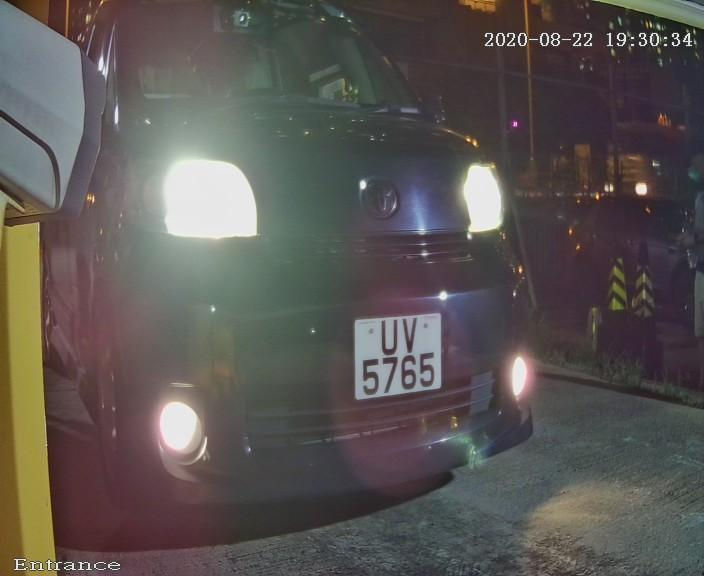Car: (32, 3, 591, 559)
License Plate: (340, 301, 453, 415)
